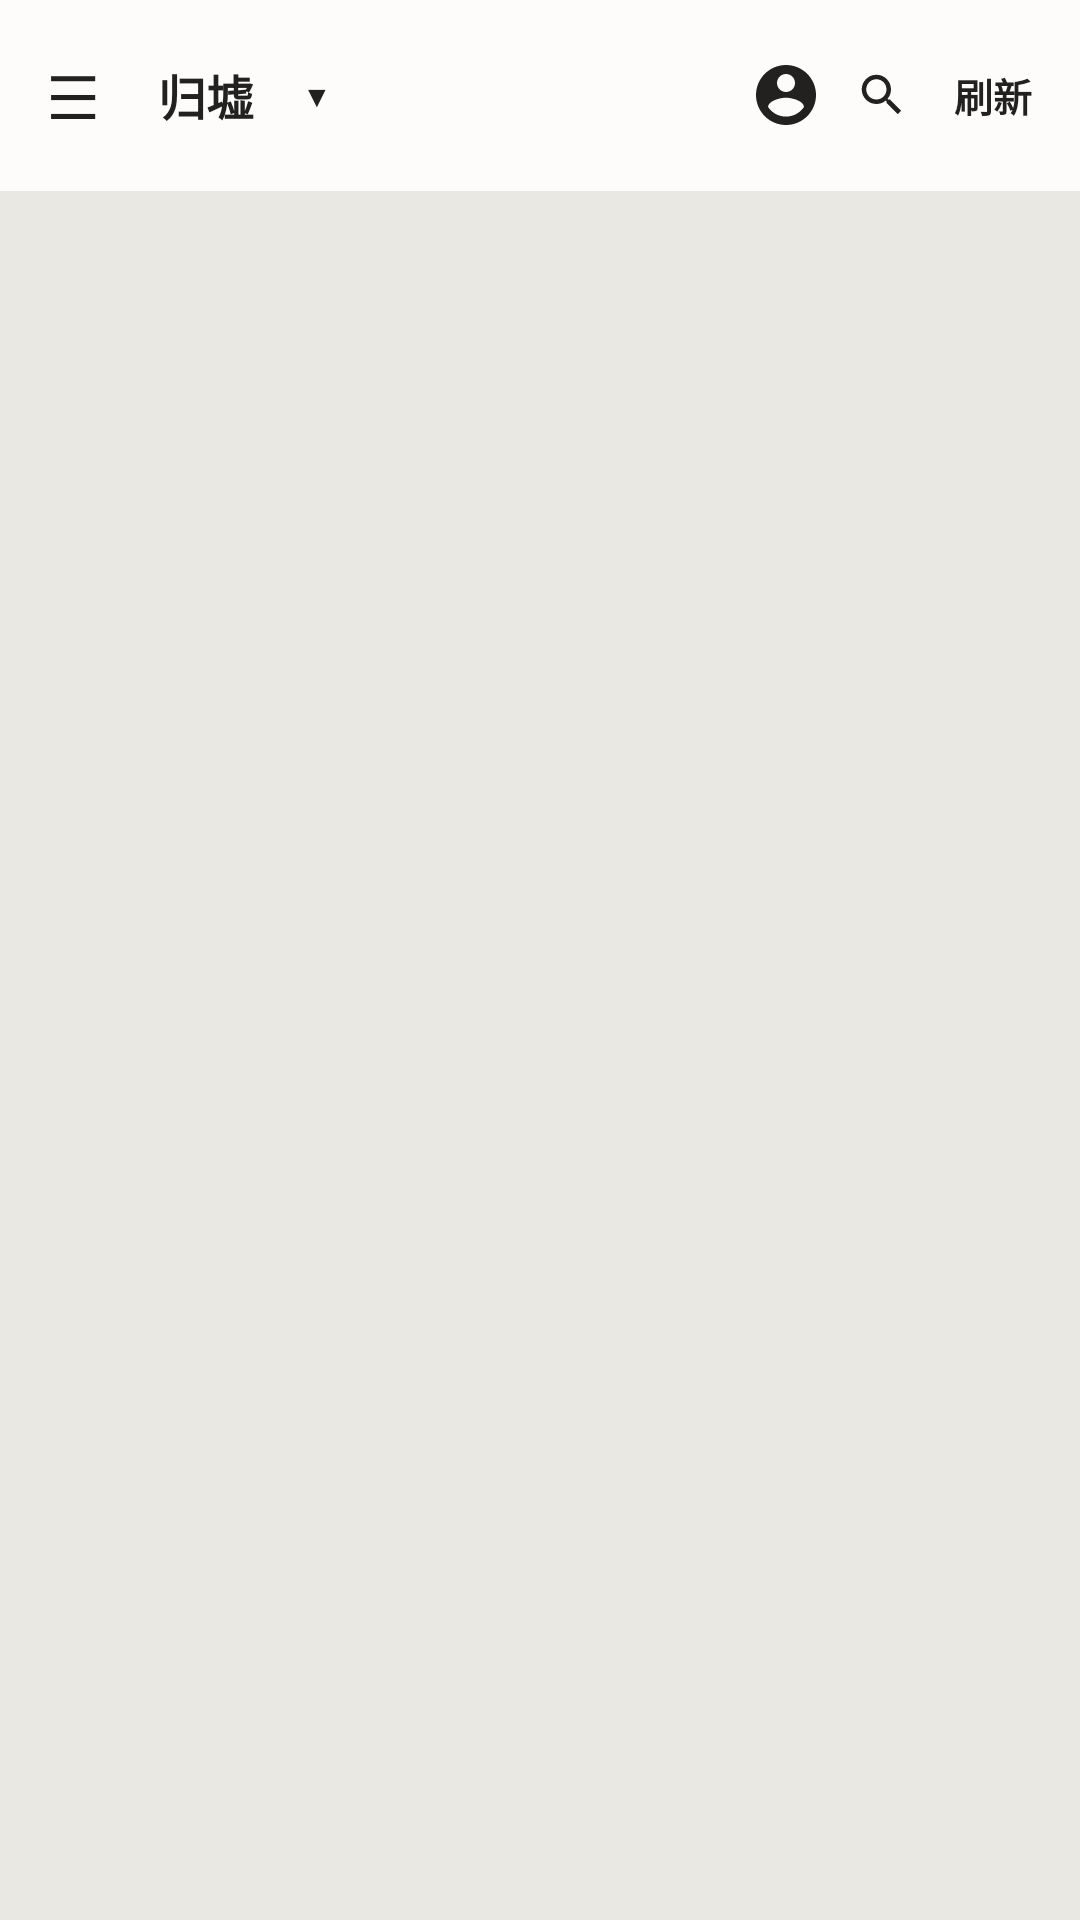

Icon bounding boxes for this 1080×1920 phone screenshot, format [x1=x1, y1=y1, x2=x2, y2=y2]:
我的: [x1=756, y1=65, x2=816, y2=125]
搜索: [x1=861, y1=74, x2=901, y2=114]
